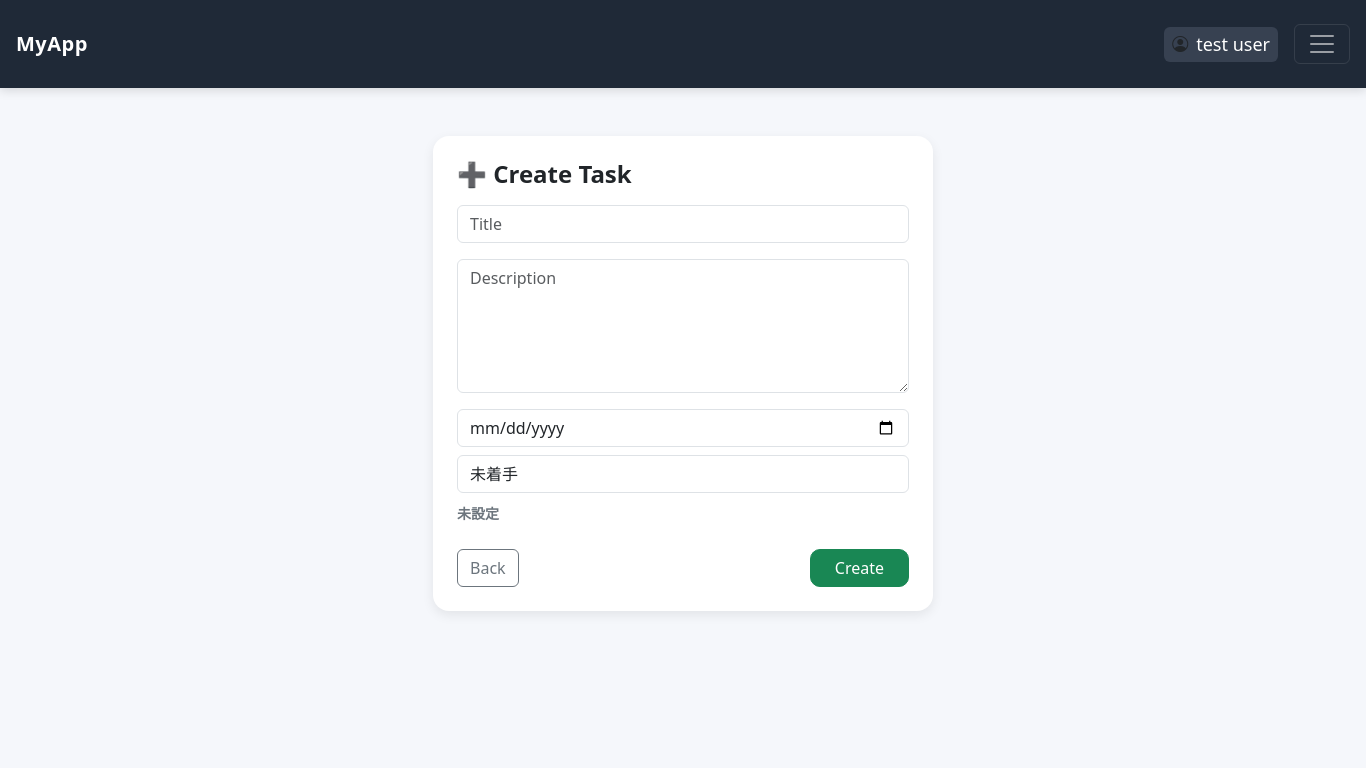
it: TasksCreate › API失敗時エラー表示
The image size is (1366, 768).
Type "テスト" into the field with placeholder "Title". click: (683, 224)
box: [457,205,909,243]
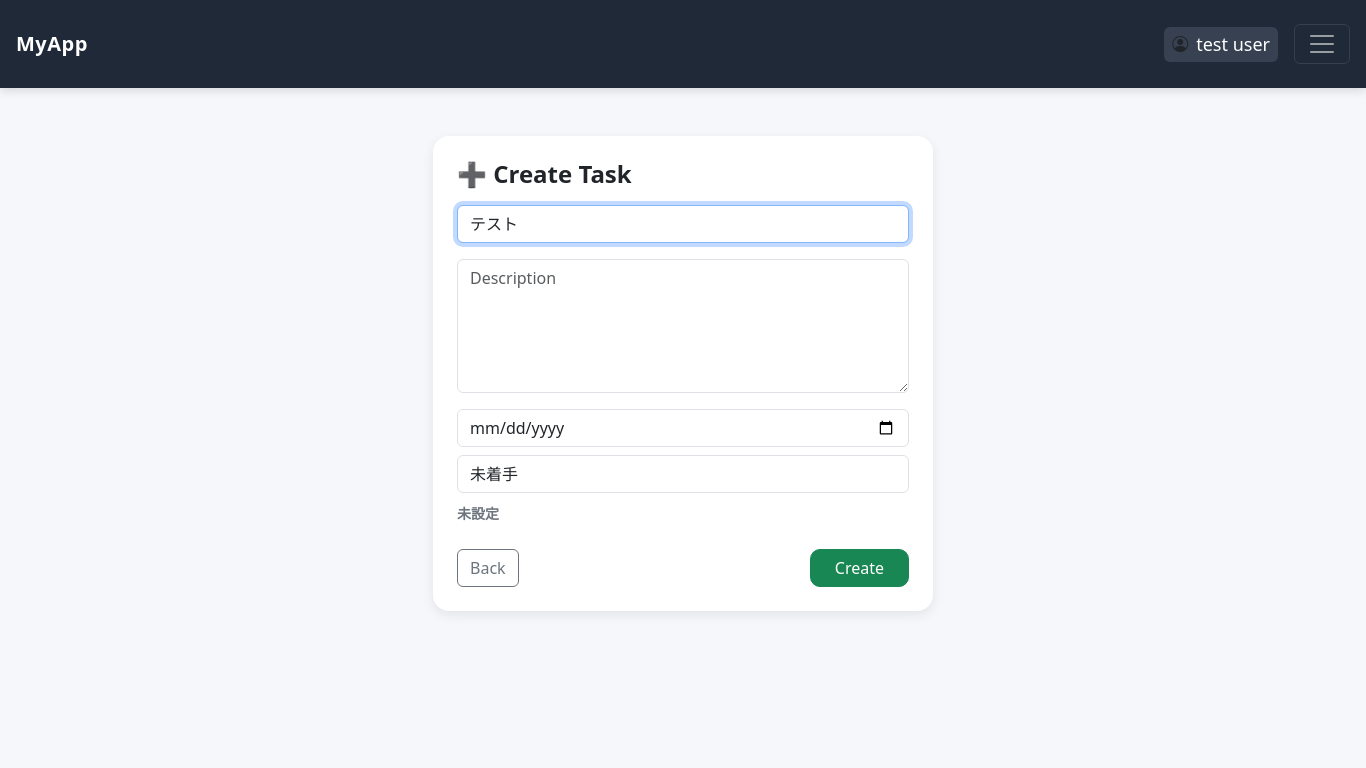
Type "説明" into the text box with placeholder "Description". click: (683, 326)
box: [457,259,909,393]
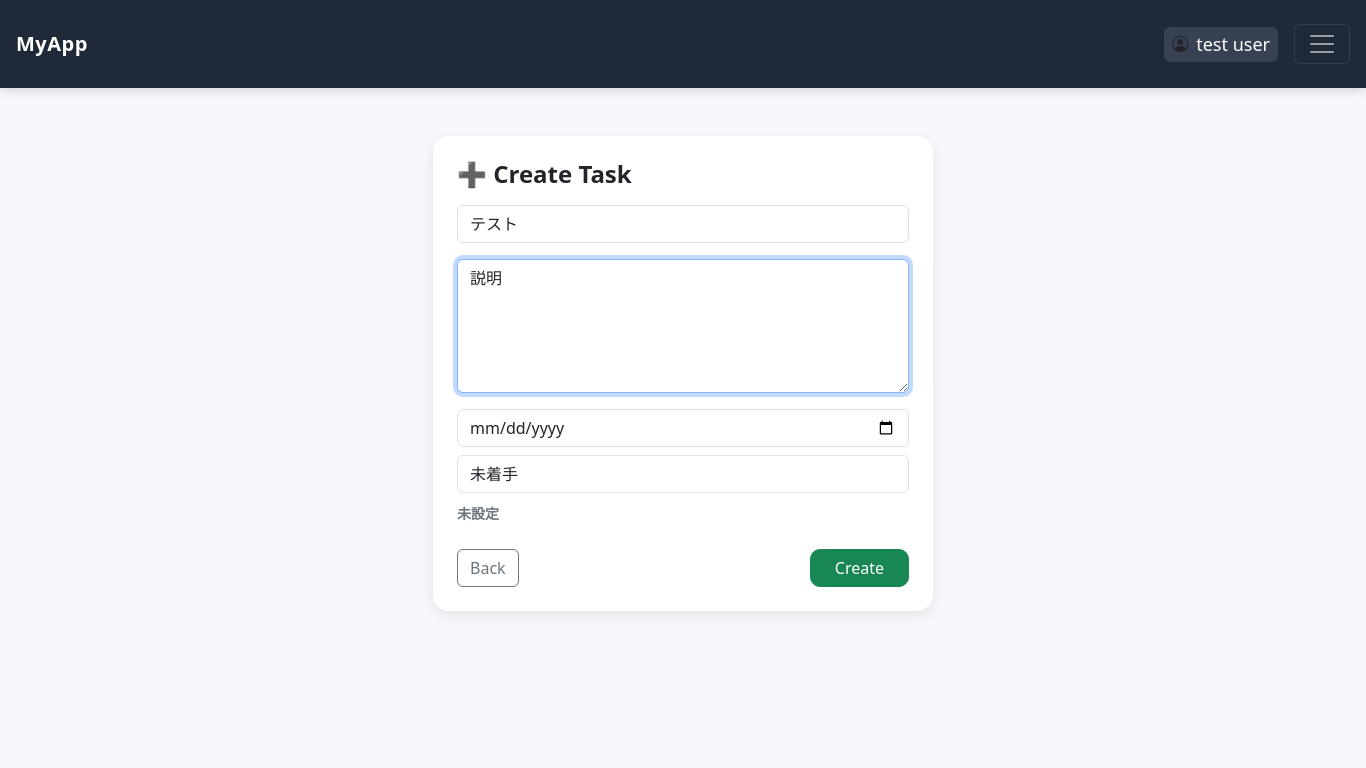
Click the button "Create". click: (859, 568)
box: [810,549,909,587]
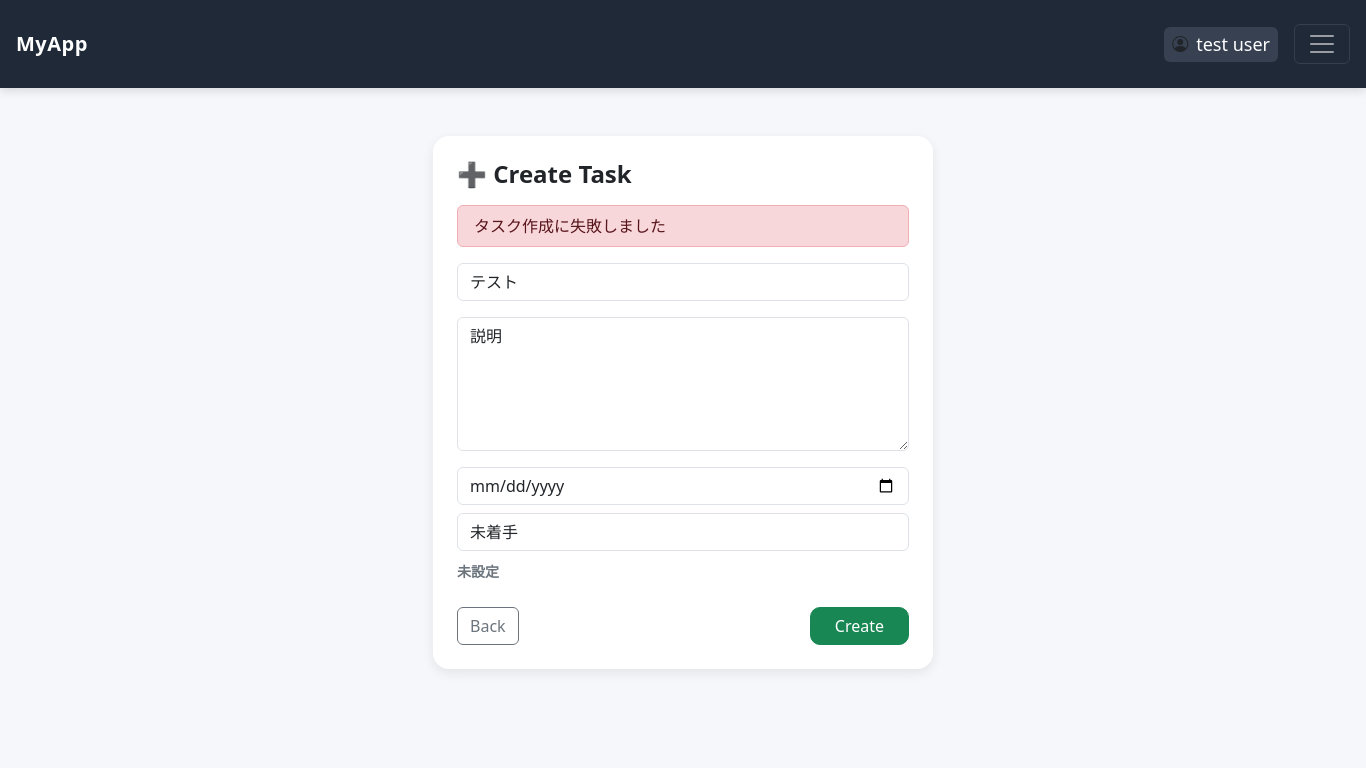
Check: the text "タスク作成に失敗しました" is shown, box [457,205,909,247]
